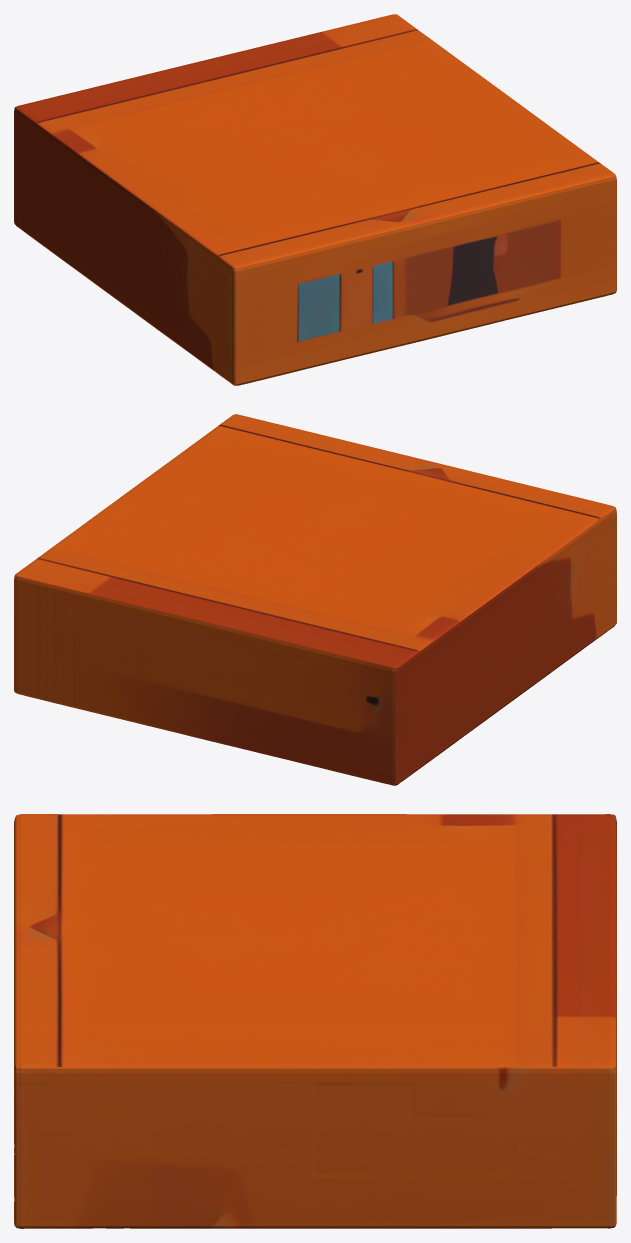
File: picnic_table1.glb
3 views of the same model, one above another, from view 1: azimuth 30°, elevation 25°; view 2: azimuth 150°, elevation 25°; view 3: azimuth 270°, elevation 25° (orthographic). The views are drawn at different scales.
Visible parts, largest first — view 1: tmplsqmu9_3.ply; view 2: tmplsqmu9_3.ply; view 3: tmplsqmu9_3.ply.
Part boxes in pixels (x1,y1,x2,y2): tmplsqmu9_3.ply: (14, 14, 616, 385); tmplsqmu9_3.ply: (14, 414, 616, 785); tmplsqmu9_3.ply: (14, 814, 616, 1228).
Bounding box in the file's own units: 1.96 × 0.5841 × 1.96.
1 material, 1 textured.
